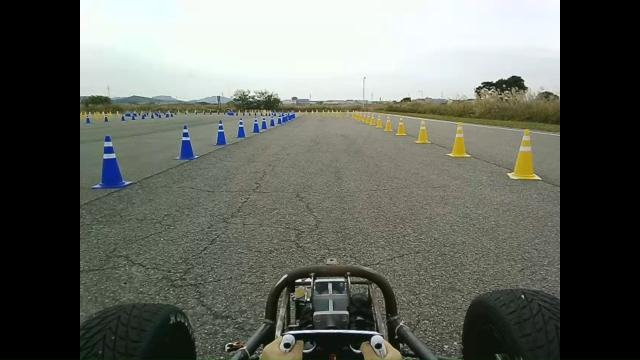blue cone: (87, 134, 135, 195), (174, 120, 201, 161), (215, 117, 232, 151), (237, 116, 249, 141)
yellow cone: (506, 128, 542, 180), (446, 121, 471, 157), (415, 119, 431, 143), (395, 116, 407, 136), (384, 114, 393, 132), (375, 115, 383, 128), (369, 115, 376, 125), (351, 110, 357, 119)
